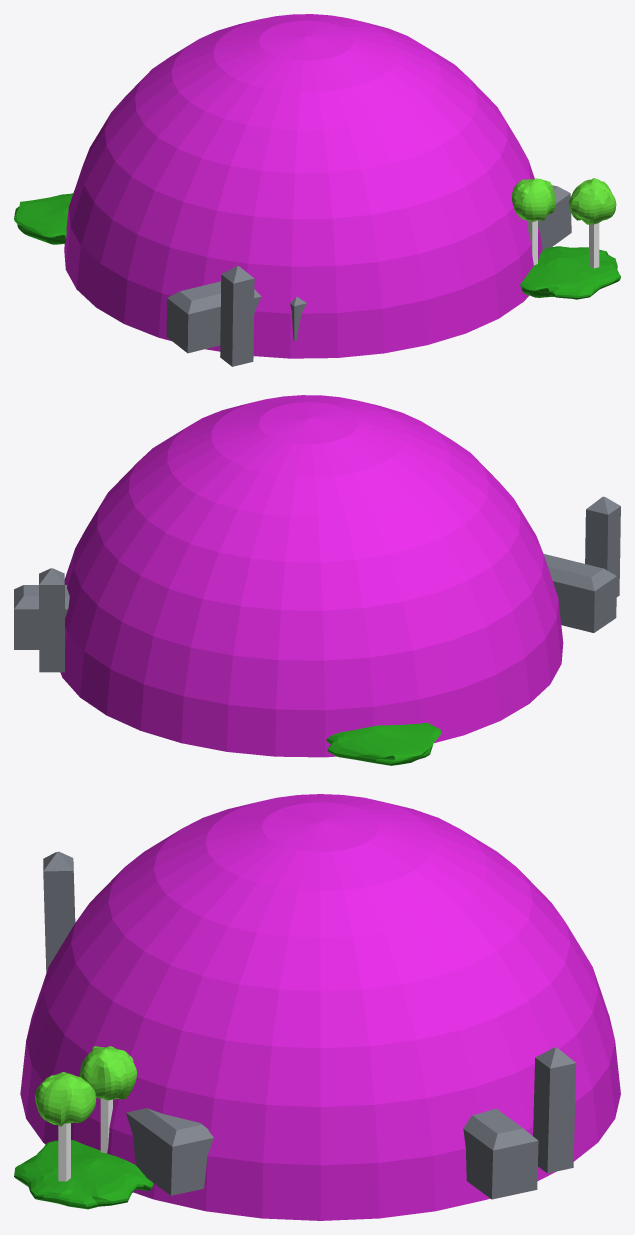
The model's file is forest_birch_dome.glb.
3 views of the same model, one above another, from view 1: azimuth 30°, elevation 25°; view 2: azimuth 150°, elevation 25°; view 3: azimuth 270°, elevation 25° (orthographic). The views are drawn at different scales.
Parts seen in each view (by area): view 1: MagicalDome.001, houses3.001, bush.005, bush.004, LeafLarge.009, LeafLarge.008, houses.001, BaumStumpf.010; view 2: MagicalDome.001, houses3.001, houses2.001, bush.004; view 3: MagicalDome.001, houses2.001, bush.005, houses.001, houses3.001, LeafLarge.009, LeafLarge.008, BaumStumpf.010.
Part boxes in pixels (x1=…): MagicalDome.001: x1=64, y1=14, x2=542, y2=358; houses3.001: x1=166, y1=266, x2=261, y2=366; bush.005: x1=520, y1=246, x2=620, y2=299; bush.004: x1=14, y1=193, x2=73, y2=244; LeafLarge.009: x1=569, y1=178, x2=616, y2=224; LeafLarge.008: x1=512, y1=178, x2=555, y2=221; houses.001: x1=538, y1=185, x2=571, y2=249; BaumStumpf.010: x1=589, y1=223, x2=599, y2=268; MagicalDome.001: x1=60, y1=395, x2=563, y2=757; houses3.001: x1=543, y1=496, x2=620, y2=632; houses2.001: x1=14, y1=568, x2=69, y2=672; bush.004: x1=326, y1=722, x2=441, y2=765; MagicalDome.001: x1=20, y1=794, x2=620, y2=1220; houses2.001: x1=463, y1=1047, x2=576, y2=1199; bush.005: x1=14, y1=1140, x2=153, y2=1209; houses.001: x1=126, y1=1108, x2=213, y2=1195; houses3.001: x1=43, y1=851, x2=75, y2=972; LeafLarge.009: x1=35, y1=1072, x2=96, y2=1126; LeafLarge.008: x1=79, y1=1046, x2=136, y2=1100; BaumStumpf.010: x1=58, y1=1123, x2=70, y2=1181.
Size of what is drawn, in the model's own units: 9.37 by 5 by 9.37.
